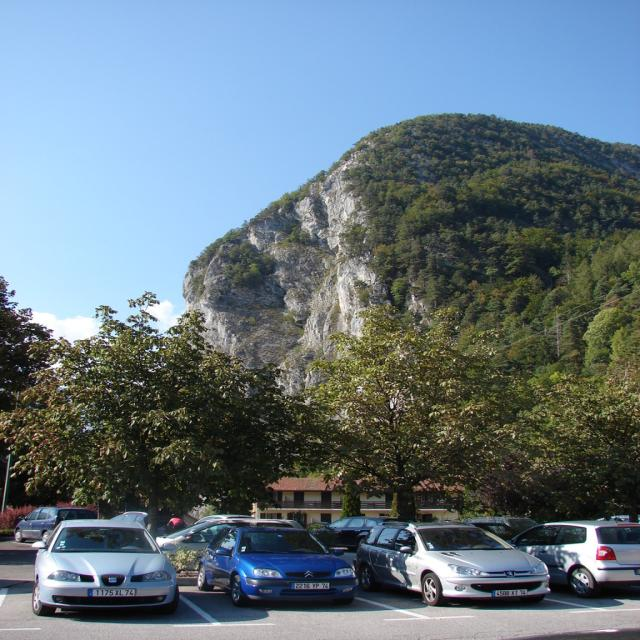car: (359, 520, 550, 600), (34, 518, 179, 616), (191, 521, 352, 607)
